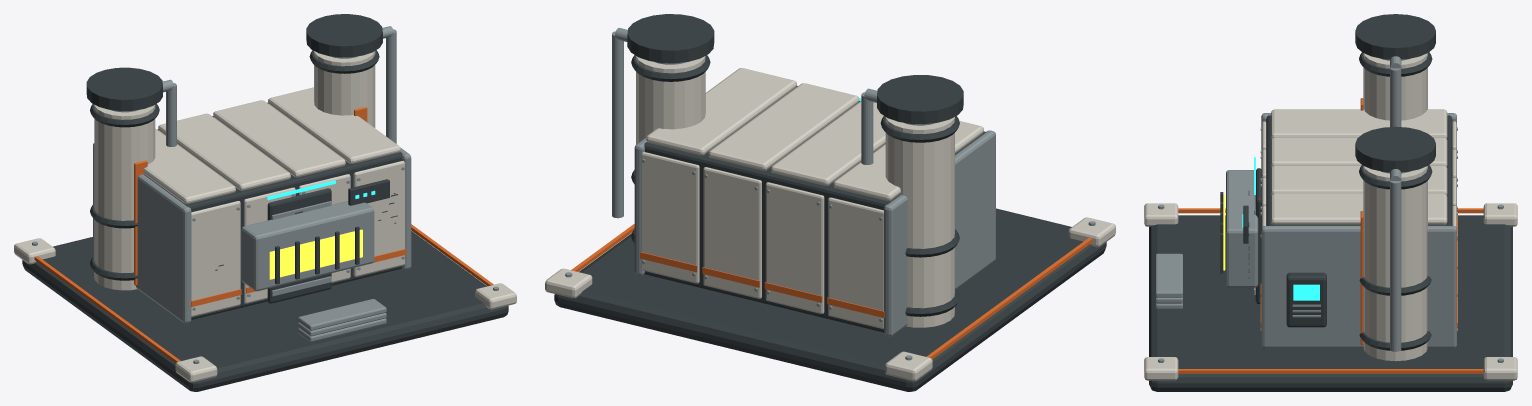
Rendered from SM_AdvancedAlloyFoundry_Body.fbx.
The picture shows the model from 3 angles, left to right: view 1: azimuth 30°, elevation 25°; view 2: azimuth 150°, elevation 25°; view 3: azimuth 270°, elevation 25°; orthographic projection. The views are drawn at different scales.
Parts seen in each view (by area): view 1: SM_AdvancedAlloyFoundry_Body; view 2: SM_AdvancedAlloyFoundry_Body; view 3: SM_AdvancedAlloyFoundry_Body.
Boxes of the visible parts, x1=… form: SM_AdvancedAlloyFoundry_Body: x1=14, y1=14, x2=516, y2=391; SM_AdvancedAlloyFoundry_Body: x1=545, y1=14, x2=1115, y2=391; SM_AdvancedAlloyFoundry_Body: x1=1144, y1=14, x2=1517, y2=391.
Bounding box in the file's own units: 492 × 462 × 308.
